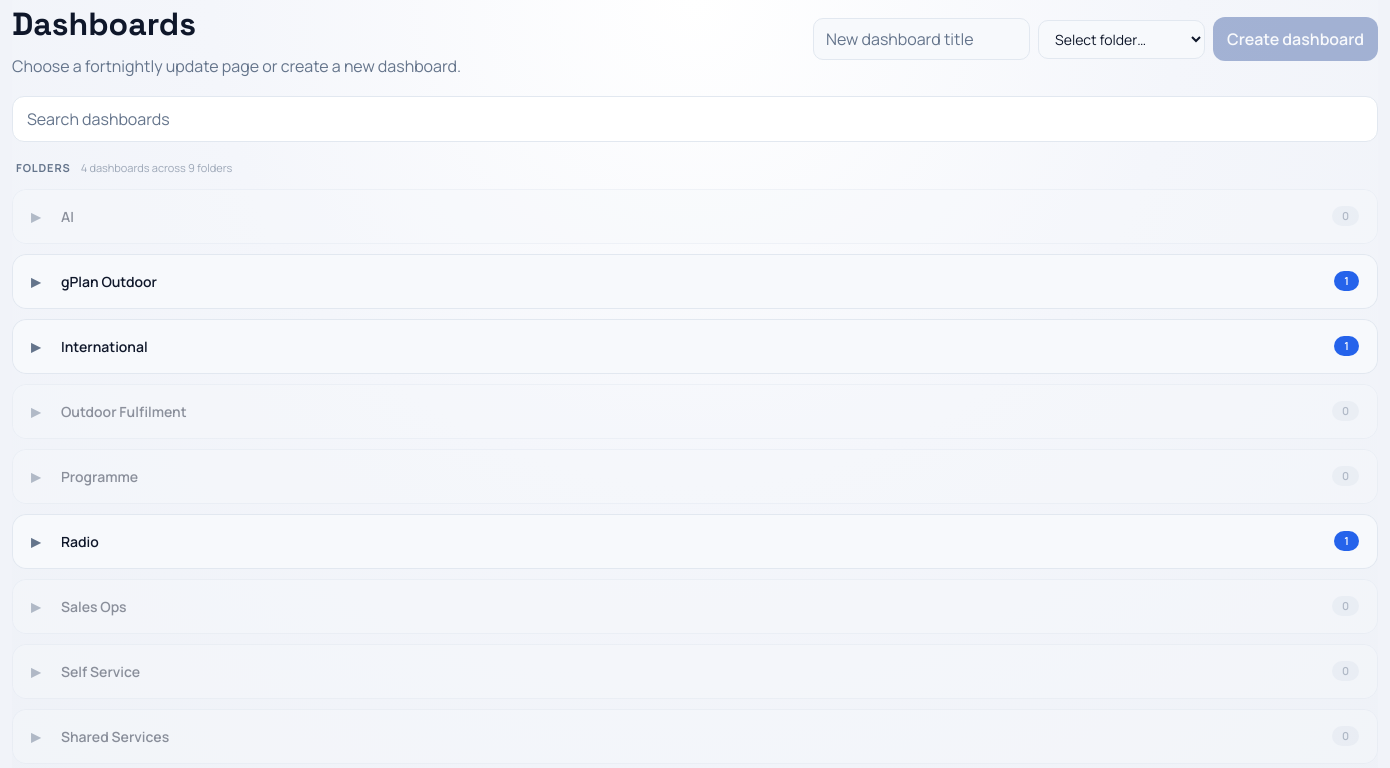
DashboardList — folders › enables Create button when both title and folder are filled
Type "My Dashboard" into the field with placeholder "New dashboard title" at (922, 39), box [813,18,1030,60]
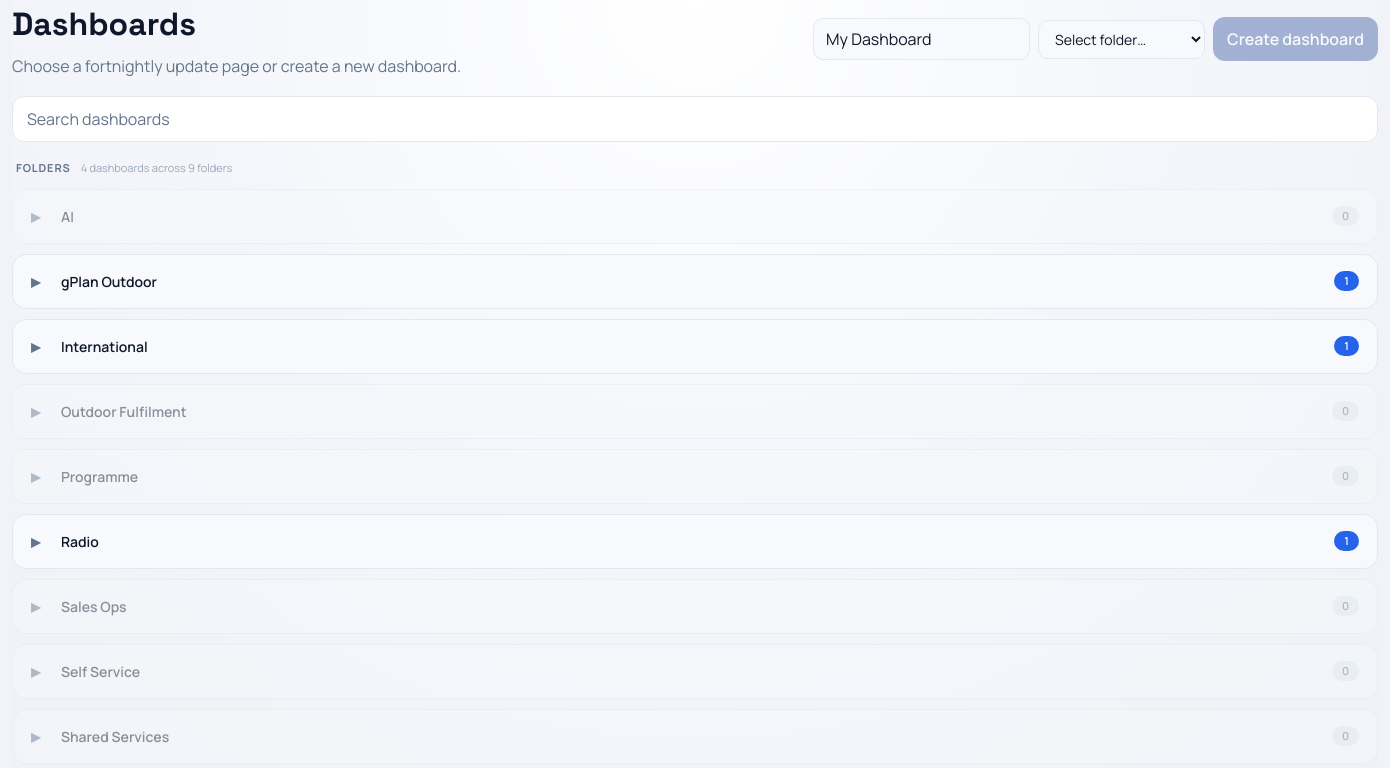
Select "Radio" in the dropdown named "Select folder" at (1122, 39), box [1038,20,1205,58]
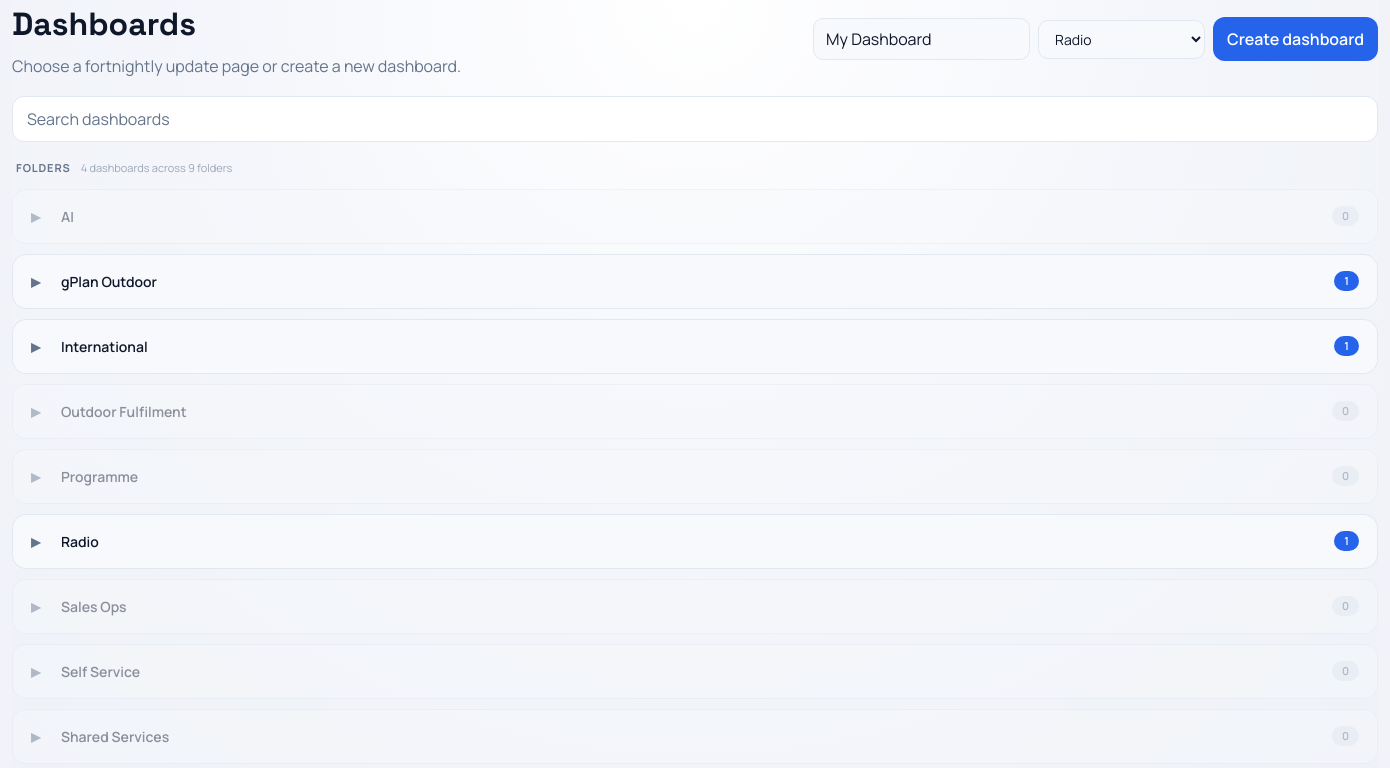
expect the button "Create dashboard" is enabled: met, box [1213,17,1378,61]
